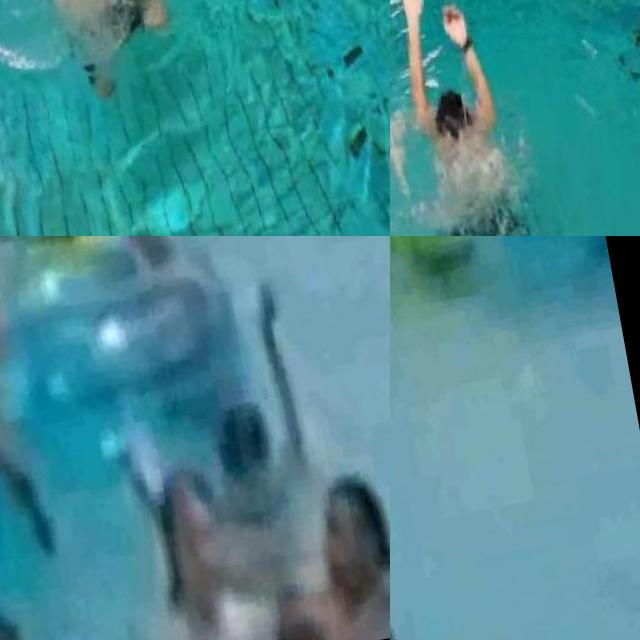drowning: (390, 0, 537, 236), (194, 350, 319, 520), (11, 0, 183, 94)
swimming: (128, 454, 240, 640), (317, 480, 390, 640), (46, 236, 176, 279), (0, 600, 44, 640)
